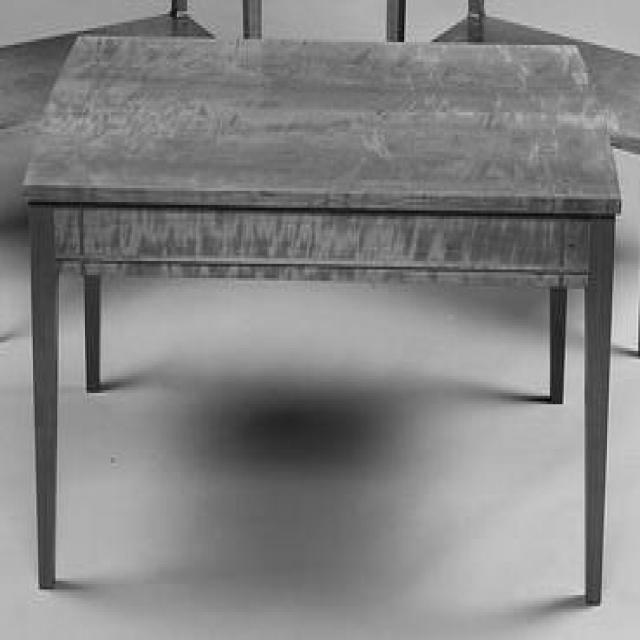table: (24, 32, 622, 602)
